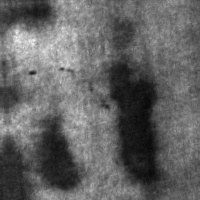patches: (104, 57, 165, 183), (32, 112, 81, 194), (9, 132, 34, 199), (1, 2, 55, 33)
